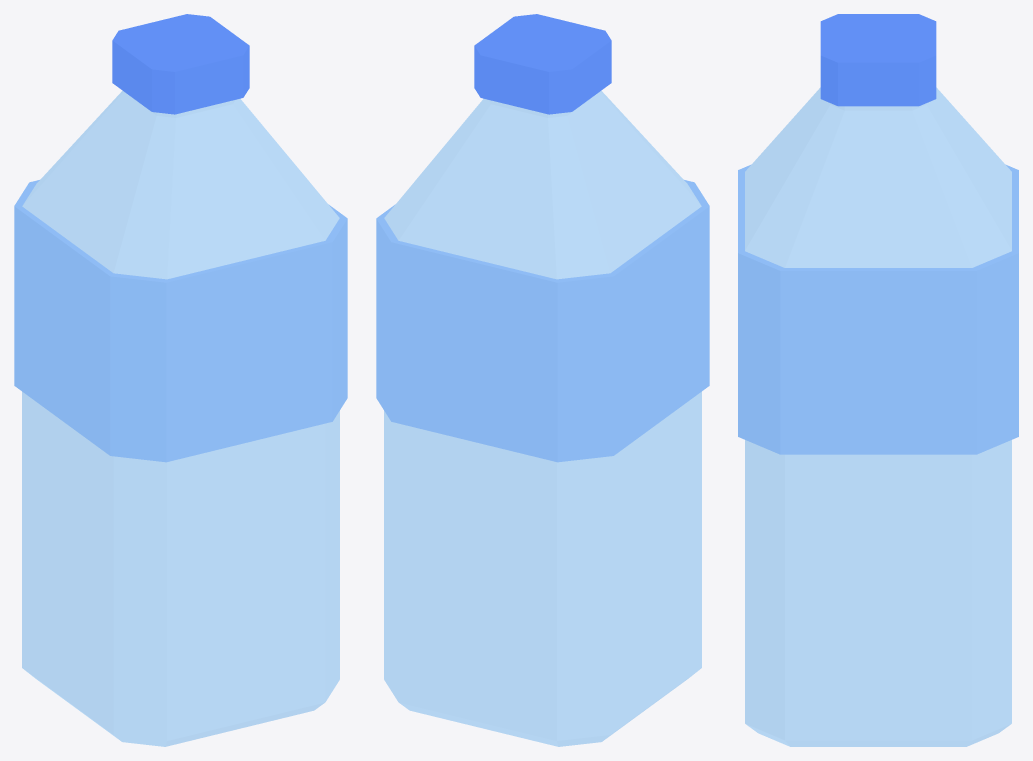
File: 003_waterBottle.gltf
3 renders of one model, left to right at view 1: azimuth 30°, elevation 25°; view 2: azimuth 150°, elevation 25°; view 3: azimuth 270°, elevation 25°, orthographic. The views are drawn at different scales.
Visible parts, largest first — view 1: Water Bottle, Water Bottle.001, Water Bottle.002; view 2: Water Bottle, Water Bottle.001, Water Bottle.002; view 3: Water Bottle, Water Bottle.001, Water Bottle.002.
Part boxes in pixels (<box>): Water Bottle: <box>22,90,339,746</box>; Water Bottle.001: <box>14,180,347,462</box>; Water Bottle.002: <box>112,14,249,114</box>; Water Bottle: <box>384,90,701,746</box>; Water Bottle.001: <box>376,180,709,462</box>; Water Bottle.002: <box>474,14,611,114</box>; Water Bottle: <box>745,87,1011,746</box>; Water Bottle.001: <box>738,164,1018,454</box>; Water Bottle.002: <box>820,14,936,106</box>.
Size of the model in its own units: 2.1 by 5.43 by 2.1.
